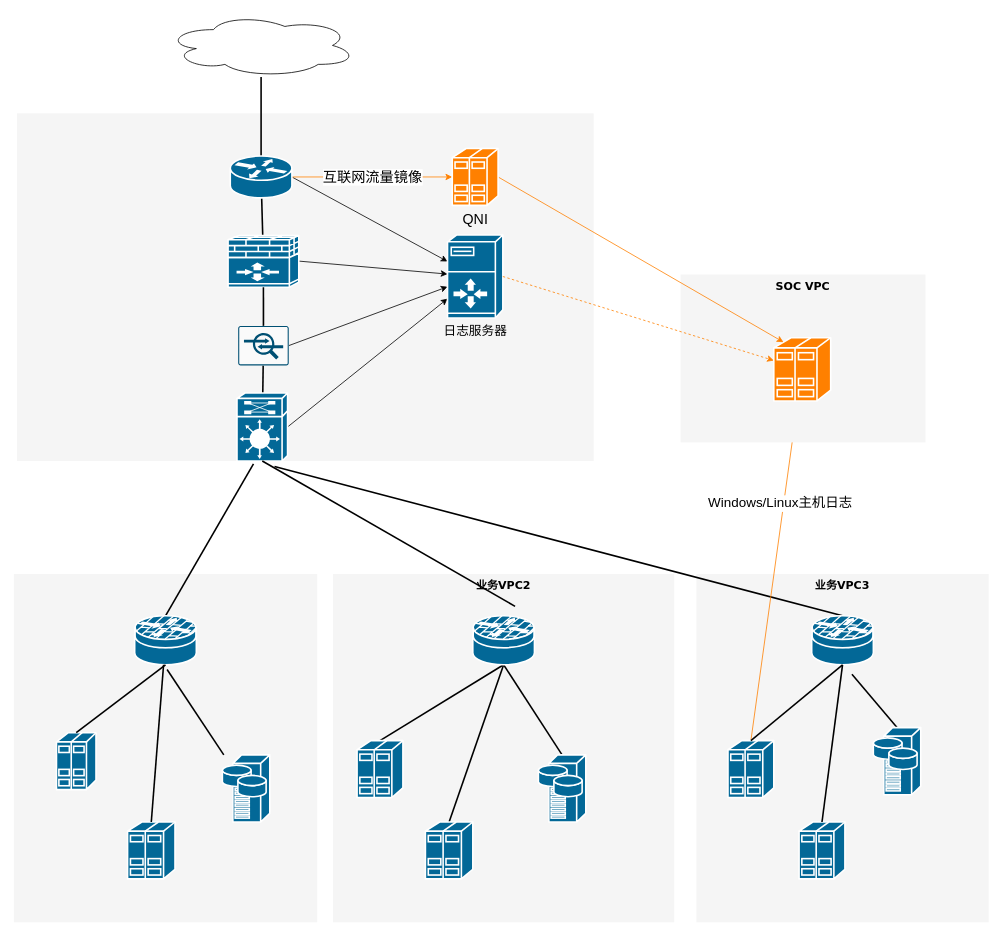
Some shapes in this 1002 by 936 pixel diagram are drawn without their labels. The box of each missing label's shape, as (x1, y1, x2, y2) in pixels:
Internet: (165, 13, 356, 77)
QRadar Console: (773, 337, 831, 401)
业务VPC1: (13, 574, 317, 922)
